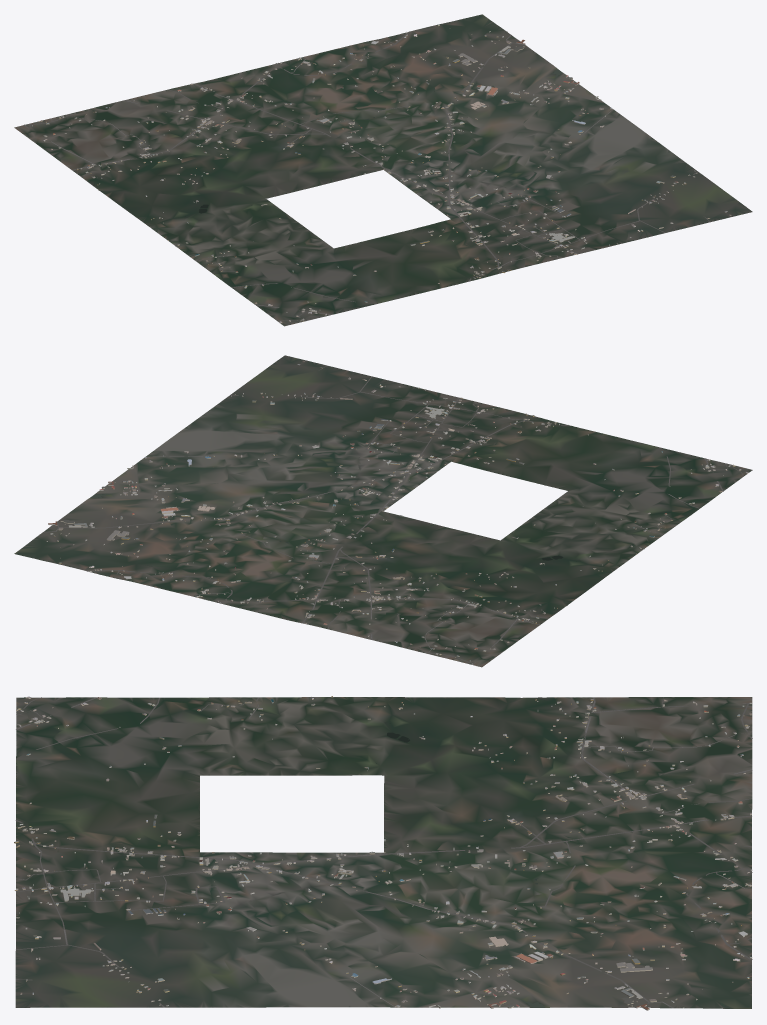
3 renders of one model, top to bottom at view 1: azimuth 30°, elevation 25°; view 2: azimuth 150°, elevation 25°; view 3: azimuth 270°, elevation 25°, orthographic. The views are drawn at different scales.
Visible parts, largest first — view 1: ground, buildings, roads; view 2: ground, buildings, roads; view 3: ground, buildings, roads.
Part boxes in pixels (x1=…): ground: x1=14, y1=14, x2=752, y2=326; buildings: x1=24, y1=25, x2=731, y2=323; roads: x1=23, y1=31, x2=710, y2=320; ground: x1=14, y1=355, x2=752, y2=667; buildings: x1=39, y1=361, x2=748, y2=664; roads: x1=43, y1=365, x2=743, y2=665; ground: x1=15, y1=697, x2=752, y2=1008; buildings: x1=14, y1=696, x2=752, y2=1010; roads: x1=15, y1=697, x2=752, y2=1008.
Size of the model in its own units: 5656 by 29 by 5624.
